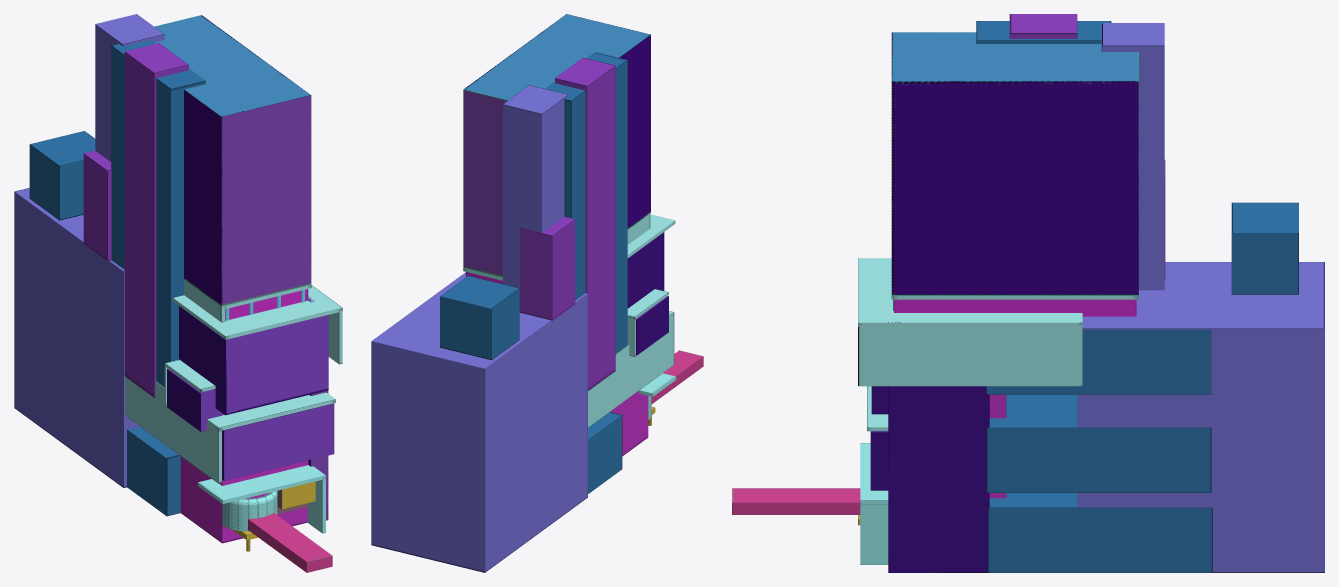
3 views of the same model, side by side, from view 1: azimuth 30°, elevation 25°; view 2: azimuth 150°, elevation 25°; view 3: azimuth 270°, elevation 25° (orthographic). The views are drawn at different scales.
Visible parts, largest first — view 1: Box041, Box048, Box030, Box028, Box024, Box023, Box046, Box007, Box037, Box045, Box001, Box027 (+13 smaller); view 2: Box048, Box041, Box030, Box045, Box028, Box046, Box047, Box007, Box037, Box024, Box001, Box034 (+4 smaller); view 3: Box041, Box048, Box009, Box038, Box037, Box026, Box036, Box045, Box046, Box027, Box040, Box004 (+6 smaller).
Part boxes in pixels (x1=…): Box041: x1=154, y1=15, x2=311, y2=306; Box048: x1=14, y1=188, x2=139, y2=487; Box030: x1=124, y1=43, x2=188, y2=397; Box028: x1=111, y1=40, x2=205, y2=387; Box024: x1=179, y1=306, x2=328, y2=415; Box023: x1=222, y1=403, x2=334, y2=480; Box046: x1=29, y1=131, x2=95, y2=220; Box007: x1=125, y1=377, x2=221, y2=483; Box037: x1=127, y1=426, x2=180, y2=516; Box045: x1=95, y1=14, x2=164, y2=161; Box001: x1=180, y1=414, x2=308, y2=543; Box027: x1=173, y1=285, x2=342, y2=339; Box048: x1=371, y1=272, x2=587, y2=572; Box041: x1=463, y1=14, x2=650, y2=277; Box030: x1=555, y1=57, x2=615, y2=390; Box045: x1=503, y1=85, x2=568, y2=311; Box028: x1=545, y1=52, x2=627, y2=353; Box046: x1=440, y1=275, x2=519, y2=360; Box047: x1=520, y1=216, x2=575, y2=320; Box007: x1=588, y1=314, x2=674, y2=427; Box037: x1=588, y1=412, x2=622, y2=493; Box024: x1=627, y1=232, x2=664, y2=308; Box001: x1=610, y1=391, x2=648, y2=456; Box034: x1=636, y1=296, x2=668, y2=355; Box041: x1=891, y1=32, x2=1138, y2=295; Box048: x1=1077, y1=262, x2=1324, y2=572; Box009: x1=888, y1=322, x2=989, y2=572; Box038: x1=986, y1=394, x2=1211, y2=492; Box037: x1=988, y1=493, x2=1212, y2=572; Box026: x1=858, y1=325, x2=1082, y2=386; Box036: x1=986, y1=329, x2=1211, y2=394; Box045: x1=1101, y1=23, x2=1164, y2=290; Box046: x1=1231, y1=202, x2=1298, y2=294; Box027: x1=858, y1=258, x2=1082, y2=326; Box040: x1=894, y1=299, x2=1136, y2=316; Box004: x1=732, y1=488, x2=860, y2=514.
Size of the model in its own units: 73.24 by 242 by 264.
